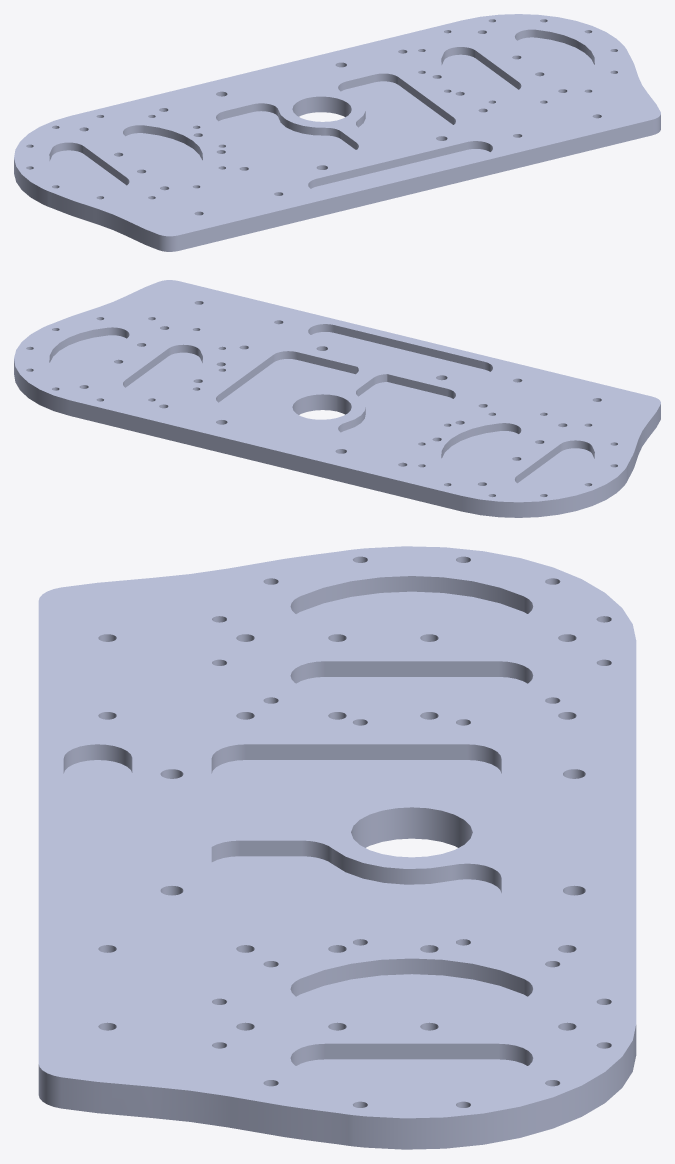
Rendered from + Waist plate.dae.
The picture shows the model from 3 angles, top to bottom: view 1: azimuth 30°, elevation 25°; view 2: azimuth 150°, elevation 25°; view 3: azimuth 270°, elevation 25°; orthographic projection. The views are drawn at different scales.
Parts seen in each view (by area): view 1: Actor0; view 2: Actor0; view 3: Actor0.
Part boxes in pixels (x1,y1,x2,y2): Actor0: [14, 14, 660, 251]; Actor0: [14, 280, 660, 517]; Actor0: [38, 546, 636, 1149].
Size of the model in its own units: 0.3739 by 0.00953 by 0.1651.
